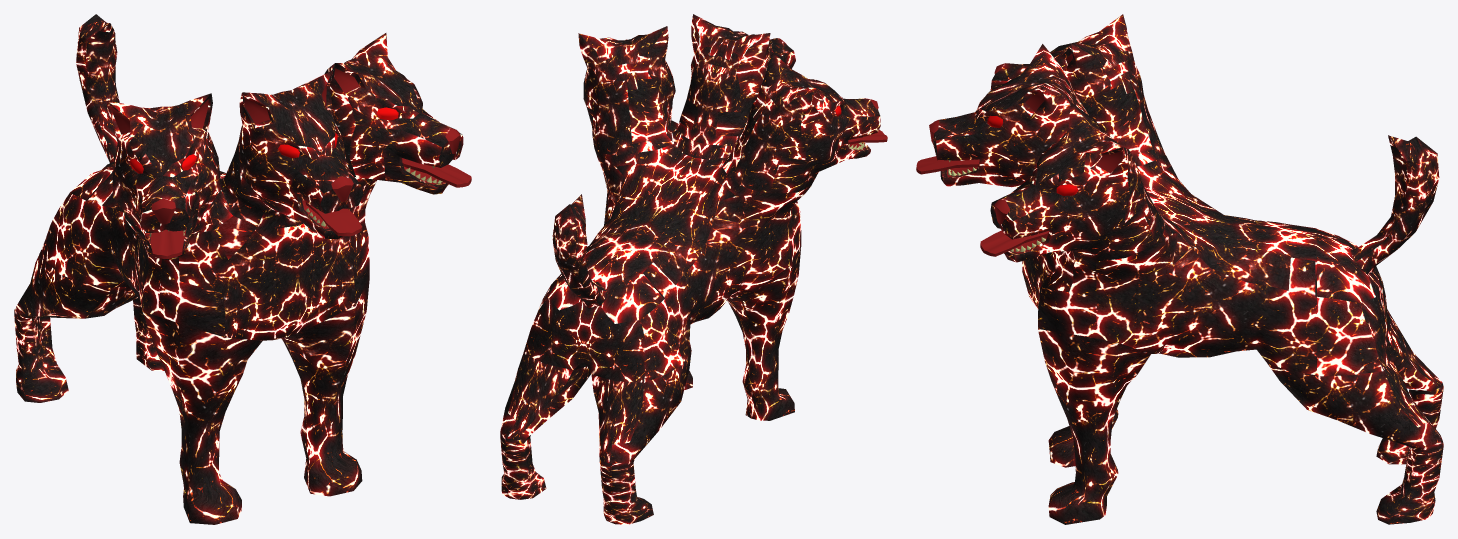
Rendered from Cerberus_USETHISTYLER.FBX.
The picture shows the model from 3 angles, left to right: view 1: azimuth 30°, elevation 25°; view 2: azimuth 150°, elevation 25°; view 3: azimuth 270°, elevation 25°; orthographic projection. The views are drawn at different scales.
Parts seen in each view (by area): view 1: HellHound; view 2: HellHound; view 3: HellHound.
Part boxes in pixels (x1=…): HellHound: x1=14, y1=14, x2=471, y2=524; HellHound: x1=500, y1=14, x2=887, y2=524; HellHound: x1=916, y1=14, x2=1443, y2=524.
Bounding box in the file's own units: 84.67 × 108 × 123.
